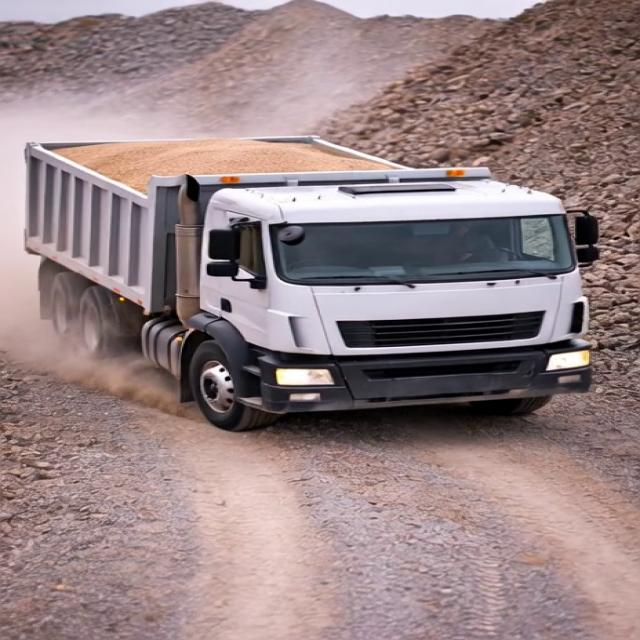trailer: (23, 134, 519, 183)
truck: (0, 97, 601, 412)
